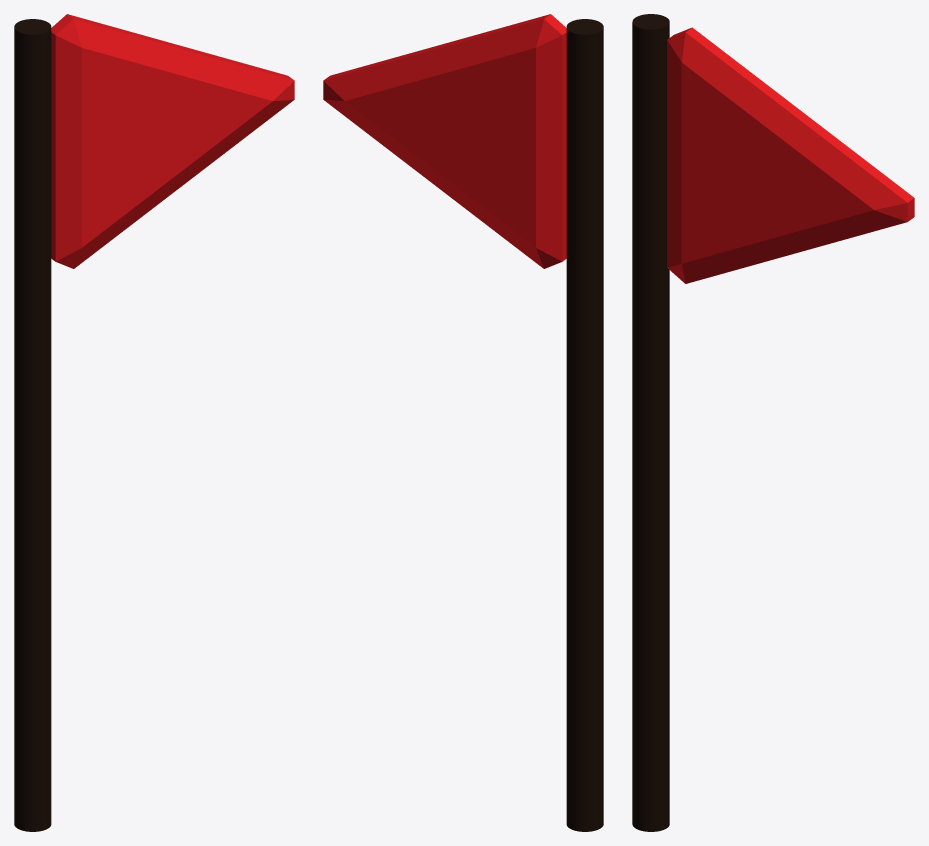
The model's file is golf_flag.fbx.
3 renders of one model, left to right at view 1: azimuth 30°, elevation 25°; view 2: azimuth 150°, elevation 25°; view 3: azimuth 330°, elevation 25°, orthographic.
Parts seen in each view (by area): view 1: Cube, Cylinder; view 2: Cube, Cylinder; view 3: Cube, Cylinder.
Part boxes in pixels (bbox=[...]): Cube: bbox=[51, 14, 294, 268]; Cylinder: bbox=[14, 19, 51, 831]; Cube: bbox=[323, 14, 566, 268]; Cylinder: bbox=[566, 19, 603, 831]; Cube: bbox=[667, 27, 914, 283]; Cylinder: bbox=[632, 14, 669, 831].
Size of the model in its own units: 213 by 593 by 25.
